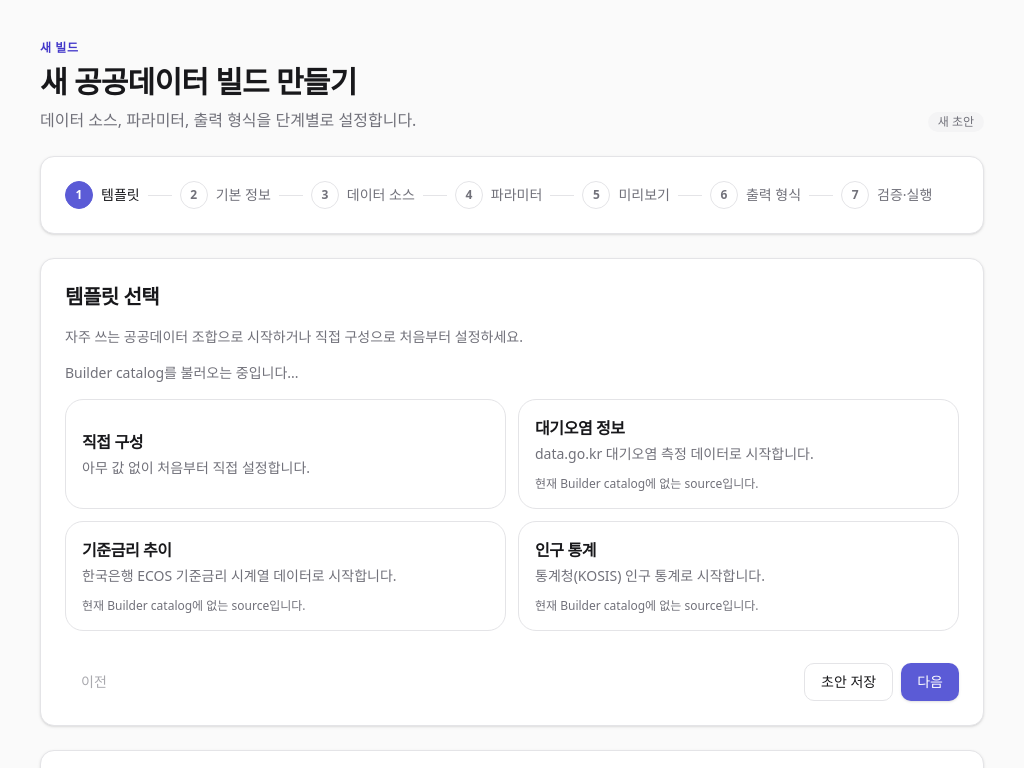
it: New Build Wizard › selecting a catalog-backed template prefills the current Builder dataset id
This screenshot has width=1024, height=768.
Click the button "대기오염 정보": (738, 454) x1=518 y1=399 x2=959 y2=509
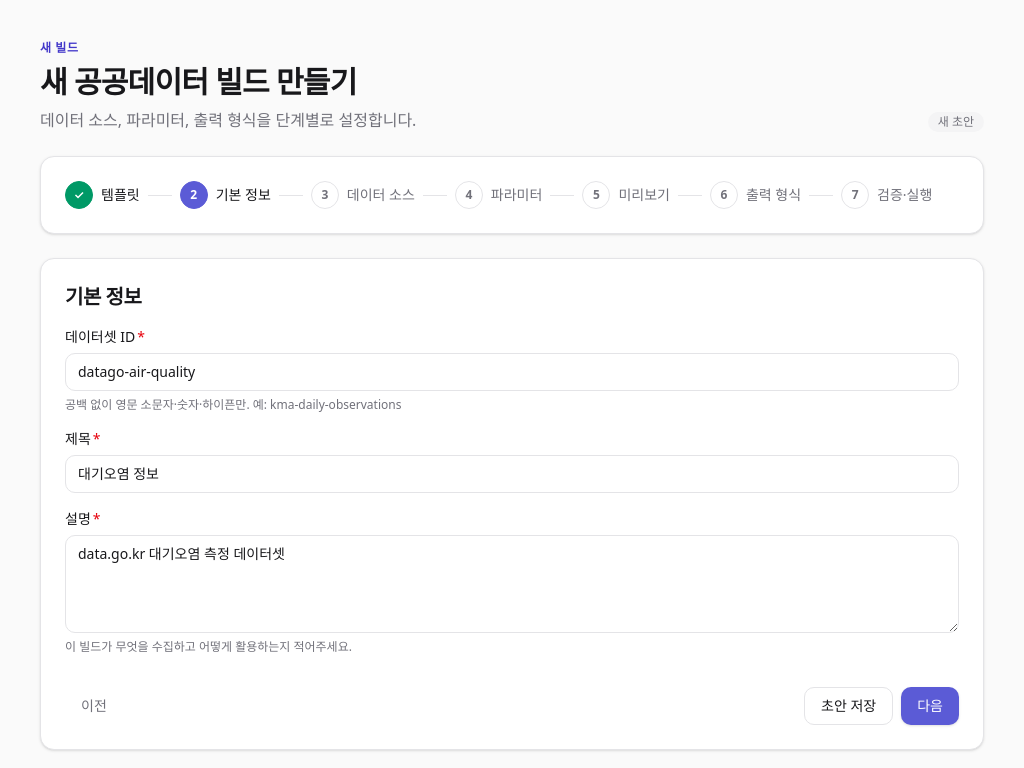
Expected: the heading "기본 정보" is shown, x1=65 y1=283 x2=141 y2=310
Expected: the field labelled "데이터셋 ID*" holds "datago-air-quality", x1=65 y1=353 x2=959 y2=391
Click the button "다음": (930, 706) x1=901 y1=687 x2=959 y2=725
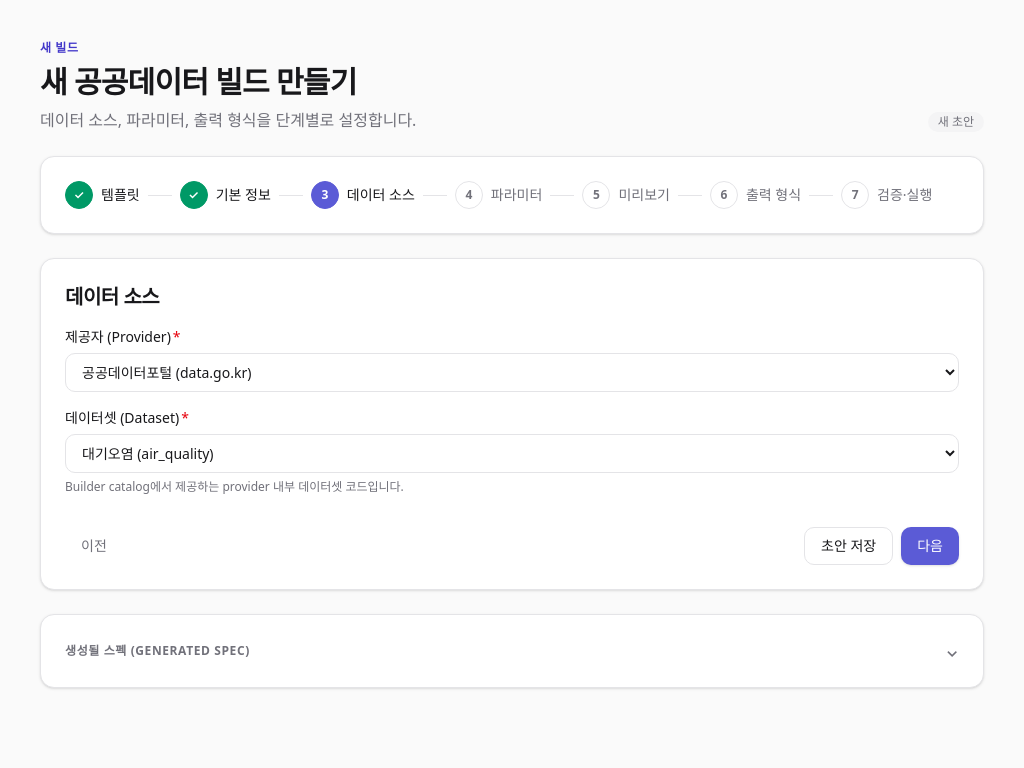
Expected: the heading "데이터 소스" is shown, x1=65 y1=283 x2=159 y2=310
Expected: the dropdown labelled "데이터셋 (Dataset)*" shows "대기오염 (air_quality)", x1=65 y1=434 x2=959 y2=473
